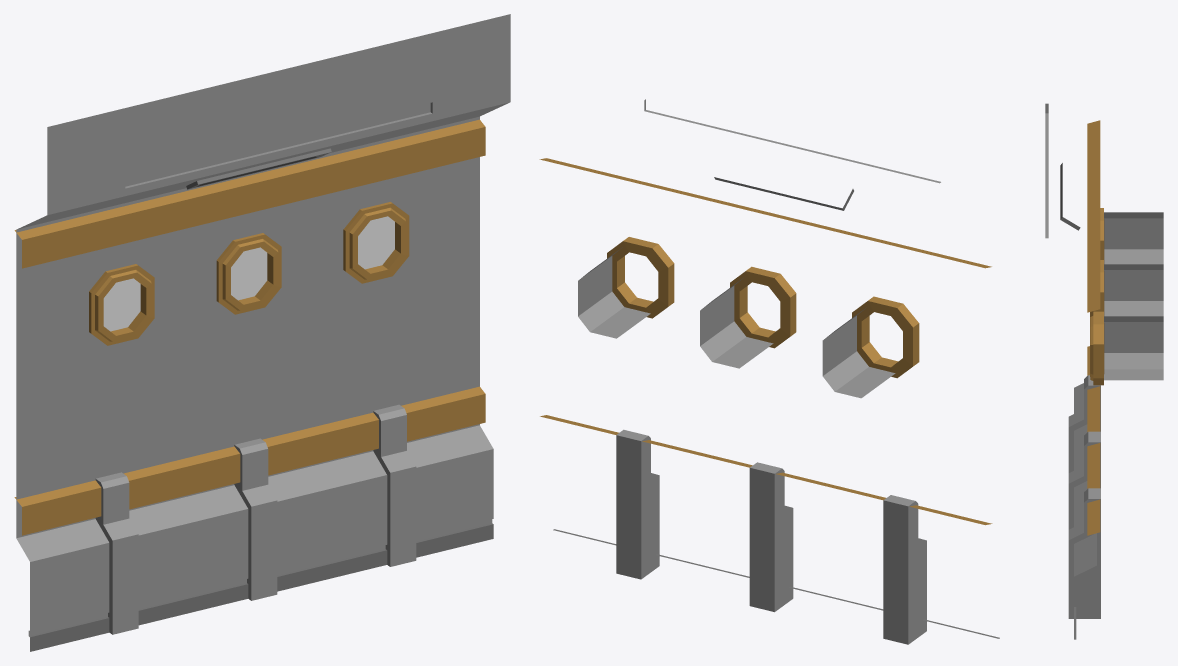
File: quaternius-modular-sci-fi-small-windows-wall-side-a.glb
3 views of the same model, side by side, from view 1: azimuth 30°, elevation 25°; view 2: azimuth 150°, elevation 25°; view 3: azimuth 270°, elevation 25° (orthographic). The views are drawn at different scales.
Visible parts, largest first — view 1: SmallWindows_Wall_SideA; view 2: SmallWindows_Wall_SideA; view 3: SmallWindows_Wall_SideA.
Part boxes in pixels (box(x1,y1,x2,y2)): SmallWindows_Wall_SideA: box(14, 14, 510, 651); SmallWindows_Wall_SideA: box(539, 99, 999, 644); SmallWindows_Wall_SideA: box(1045, 103, 1163, 639).
Bounding box in the file's own units: 4 × 4.43 × 1.06.
